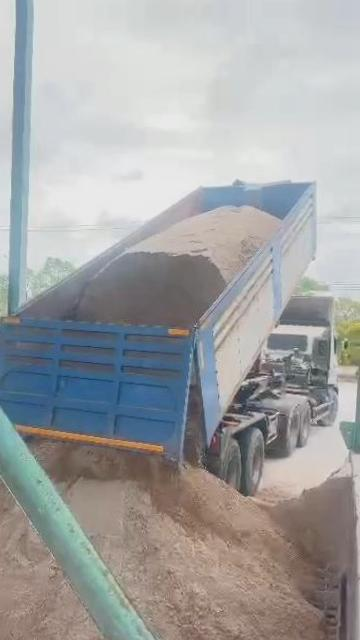sand: (36, 444, 321, 640), (64, 206, 280, 326), (0, 440, 124, 640), (251, 475, 354, 570)
